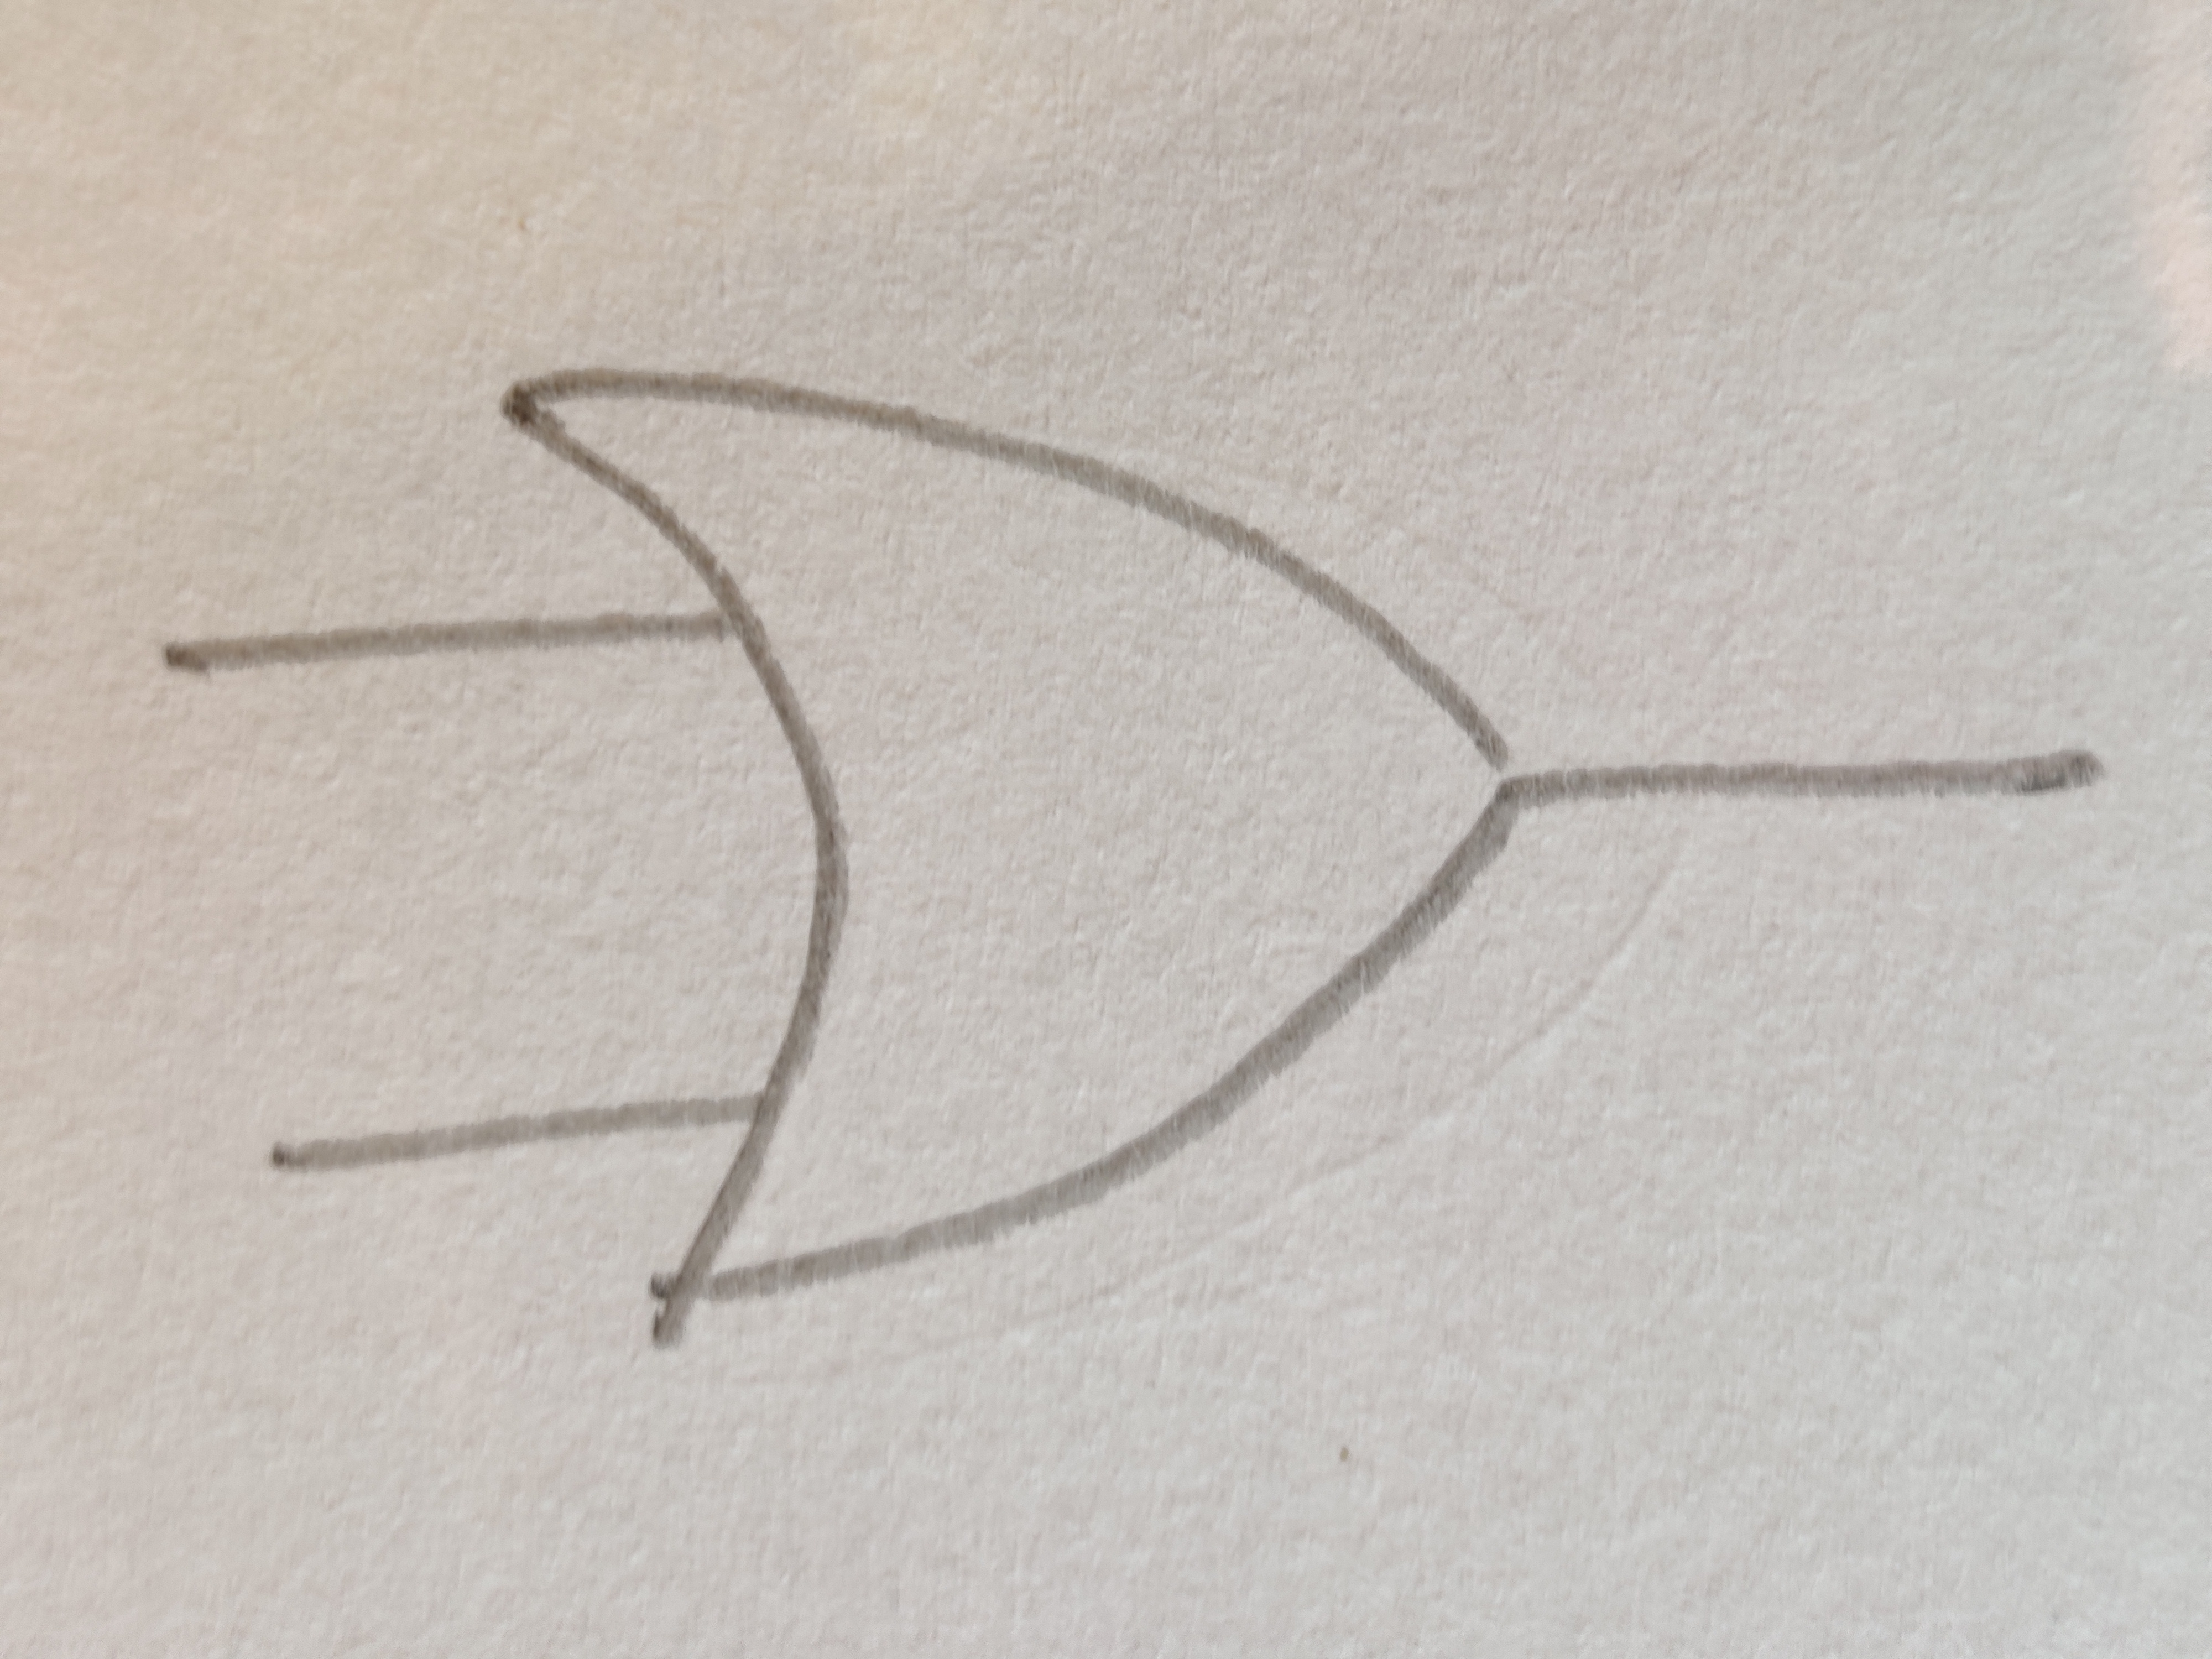or: (505, 375, 1519, 1307)
